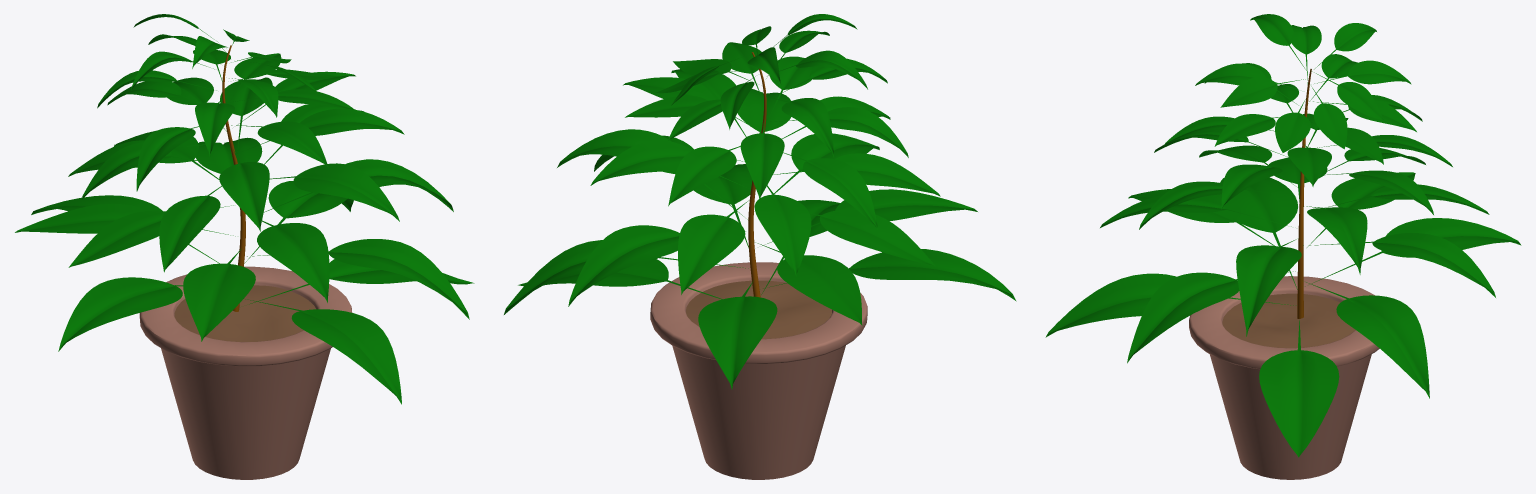
The model's file is plant.glb.
The picture shows the model from 3 angles, left to right: view 1: azimuth 30°, elevation 25°; view 2: azimuth 150°, elevation 25°; view 3: azimuth 270°, elevation 25°; orthographic projection. The views are drawn at different scales.
Parts seen in each view (by area): view 1: Circle_3, Cylinder_2, Circle.001_4; view 2: Circle_3, Cylinder_2, Circle.001_4; view 3: Circle_3, Cylinder_2, Circle.001_4.
Boxes of the visible parts, box(x1,y1,x2,y2) form: Circle_3: box(15, 14, 474, 404); Cylinder_2: box(139, 266, 352, 479); Circle.001_4: box(222, 45, 245, 311); Circle_3: box(504, 14, 1016, 389); Cylinder_2: box(650, 262, 867, 479); Circle.001_4: box(748, 52, 766, 297); Circle_3: box(1045, 14, 1521, 457); Cylinder_2: box(1189, 276, 1379, 479); Circle.001_4: box(1297, 69, 1311, 318).
Size of the model in its own units: 5.69 by 5.24 by 5.43.
